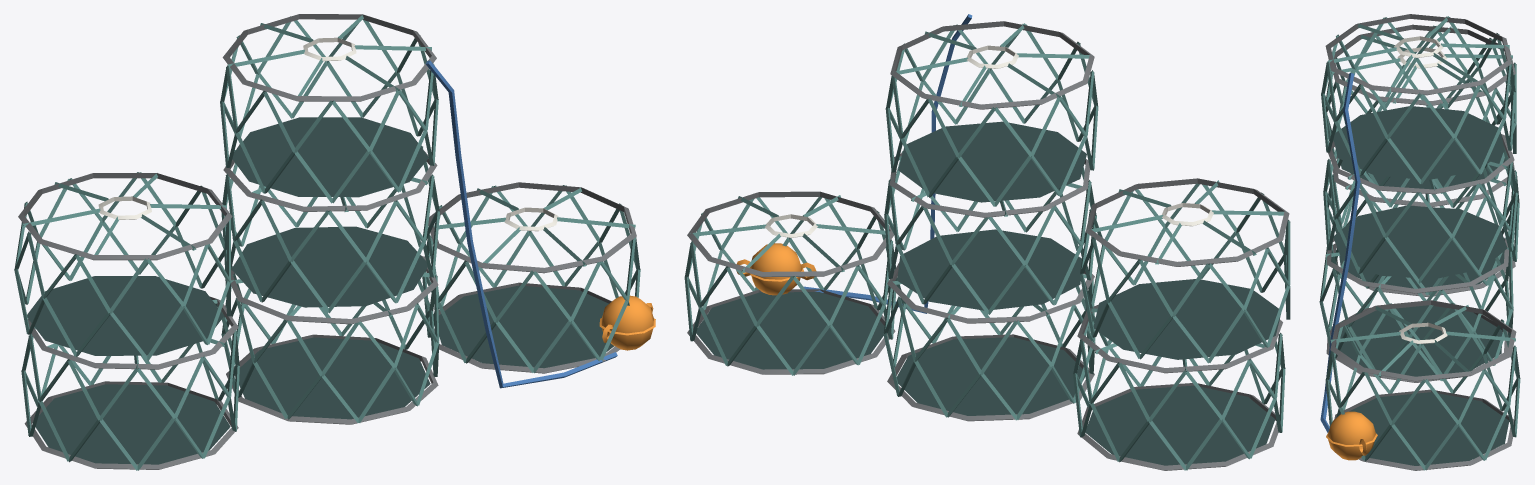
File: crab_traps.glb
The picture shows the model from 3 angles, left to right: view 1: azimuth 30°, elevation 25°; view 2: azimuth 150°, elevation 25°; view 3: azimuth 270°, elevation 25°; orthographic projection. The views are drawn at different scales.
Visible parts, largest first — view 1: crab_traps_body; view 2: crab_traps_body; view 3: crab_traps_body.
Part boxes in pixels (bbox=[...]): crab_traps_body: bbox=[14, 14, 655, 470]; crab_traps_body: bbox=[684, 14, 1290, 470]; crab_traps_body: bbox=[1319, 14, 1520, 470].
Size of what is drawn, in the model's own units: 2.97 by 1.61 by 0.9792.
